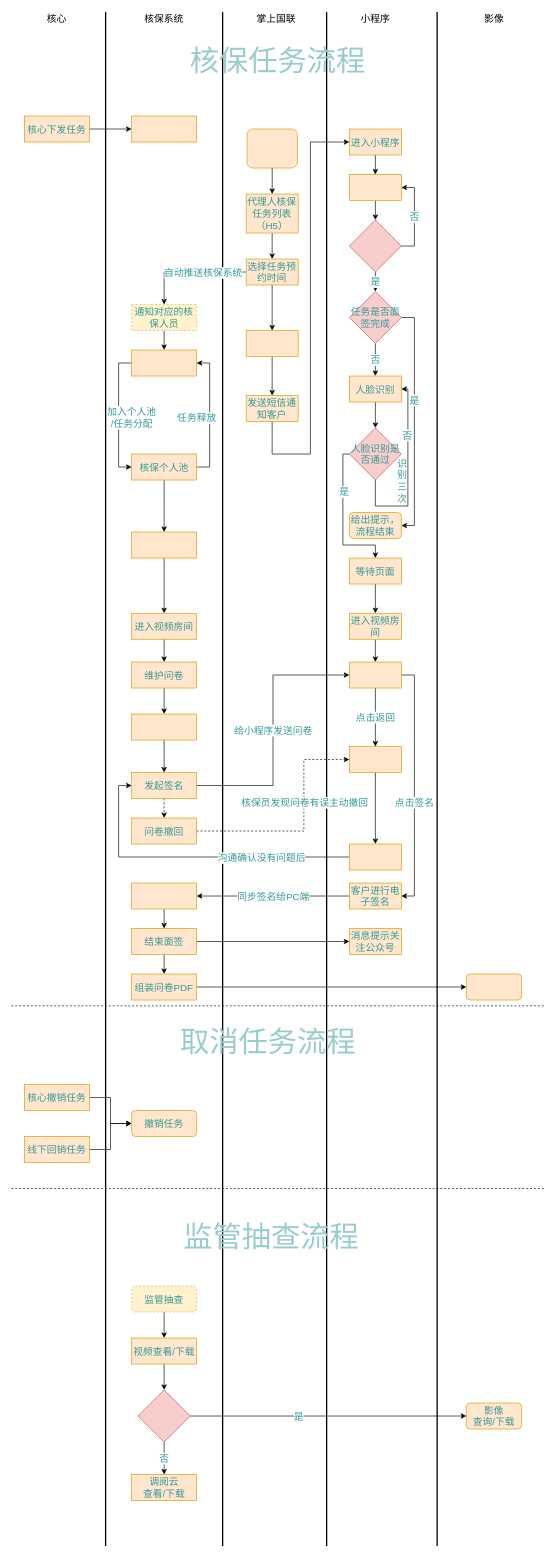
Some shapes in this 556 by 1557 pixel diagram are drawn without their labels. Here are the shapes that lost their labels. From the top down, the box of each, then its label:
(131, 115, 197, 142): 接收核保任务
(246, 128, 297, 168): 代理人登录掌上国联APP
(349, 174, 401, 201): 获取验证码
(349, 219, 401, 272): 验证通过
(131, 349, 197, 376): 核保公共池
(246, 330, 298, 357): 短信分享
(131, 531, 197, 558): 提前维护问卷
(349, 661, 401, 688): 展示问卷以及签字区域
(131, 713, 197, 740): 预览问卷
(349, 746, 401, 773): 回到视频核保界面
(349, 843, 401, 870): 继续沟通
(131, 882, 197, 909): 界面展示签名
(466, 973, 522, 1000): 接收PDF，流程结束
(137, 1389, 190, 1442): 云上文件是否过期
